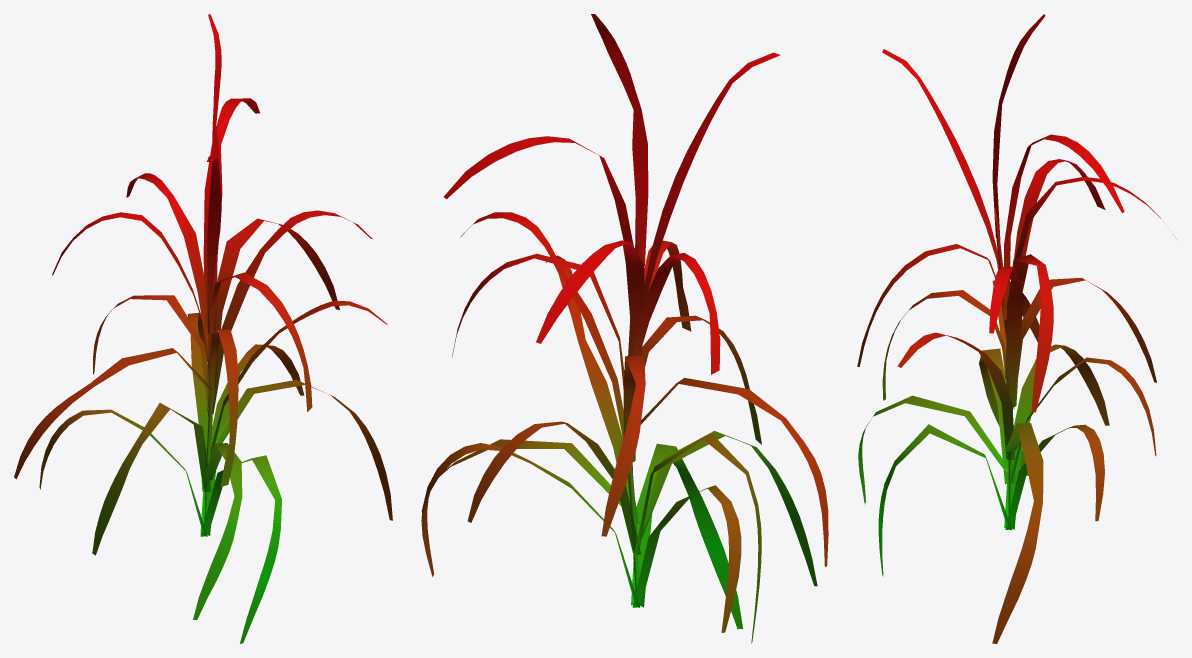
File: tkbidaxia_Var1_LOD0.fbx
3 renders of one model, left to right at view 1: azimuth 30°, elevation 25°; view 2: azimuth 150°, elevation 25°; view 3: azimuth 270°, elevation 25°, orthographic. The views are drawn at different scales.
Visible parts, largest first — view 1: _f1e3_Var1_LOD0; view 2: _f1e3_Var1_LOD0; view 3: _f1e3_Var1_LOD0.
Part boxes in pixels (<box>): _f1e3_Var1_LOD0: <box>14,14,392,643</box>; _f1e3_Var1_LOD0: <box>421,14,828,643</box>; _f1e3_Var1_LOD0: <box>857,14,1160,643</box>.
Size of the model in its own units: 41.01 by 62.22 by 30.9.
